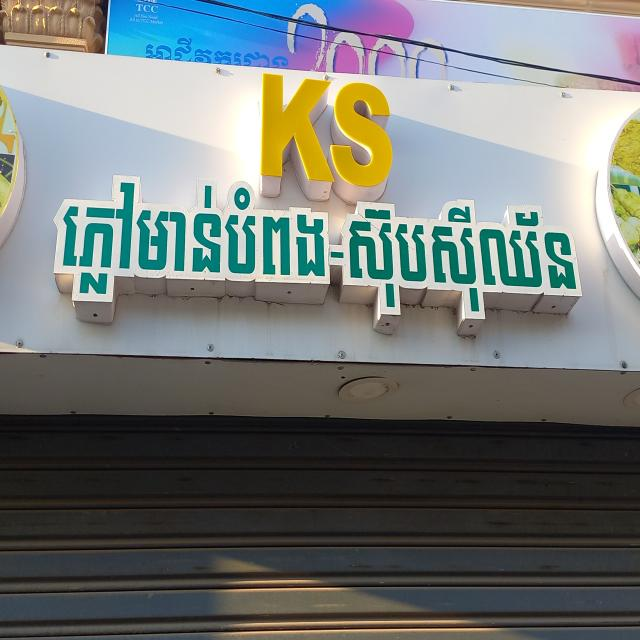Yolov11_80vkh: (49, 170, 585, 333)
